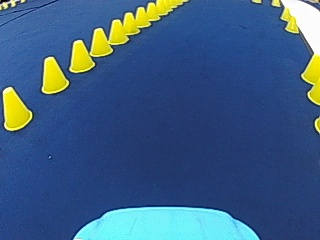cone: (1, 85, 32, 129), (40, 55, 69, 93), (68, 38, 94, 72), (299, 49, 319, 84), (89, 26, 112, 56), (107, 18, 127, 44), (120, 11, 138, 34), (133, 6, 149, 27), (307, 80, 319, 104), (144, 1, 158, 21), (284, 16, 297, 32), (155, 0, 167, 14), (280, 6, 291, 20)
